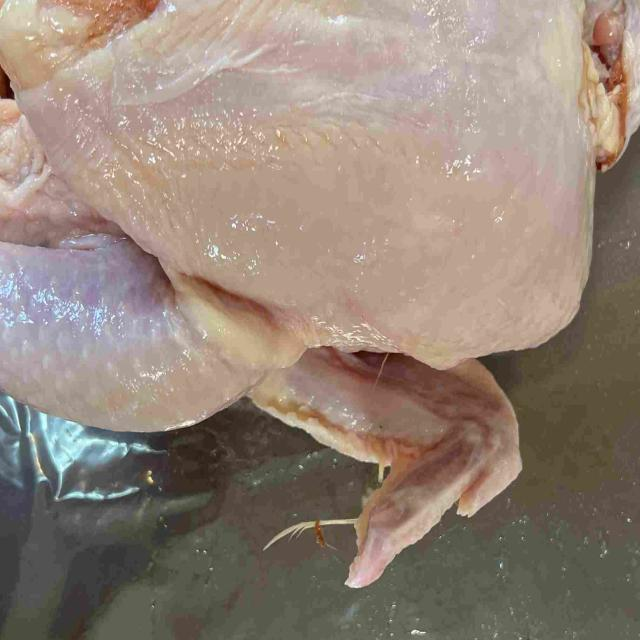breast: (1, 0, 593, 355)
leg: (0, 239, 290, 427)
neck: (581, 0, 640, 152)
wing: (259, 342, 521, 582)
